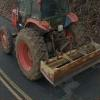Tractor: (5, 3, 79, 78)
